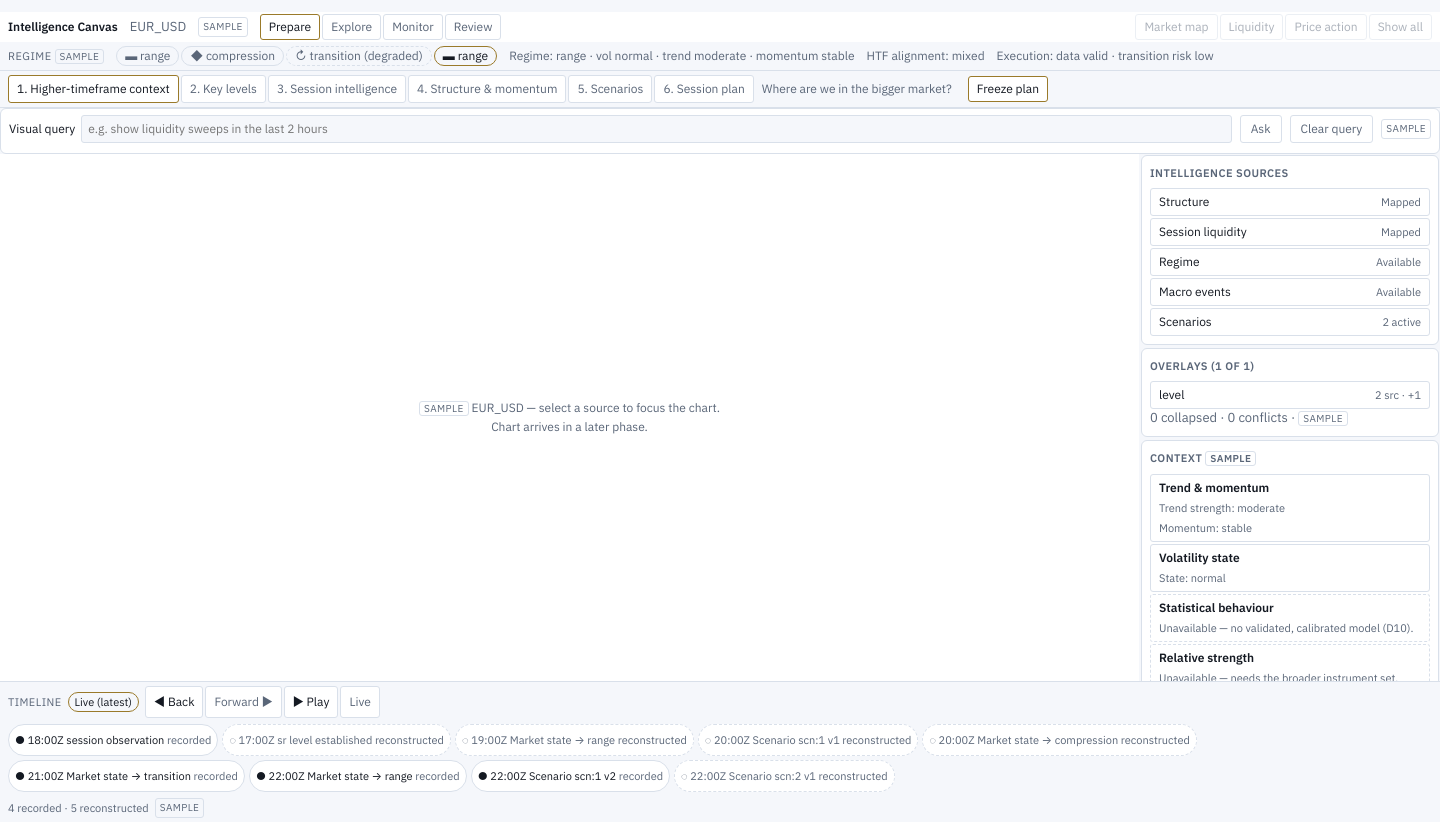
it: F11 Scenario Studio UI › mounted in the Canvas when the Scenarios source is selected
This screenshot has width=1440, height=822.
Expected: the field labelled "Scenario Studio" is not shown
Click the button "Scenarios 2 active".
click(1185, 322)  # box [1150, 308, 1430, 336]
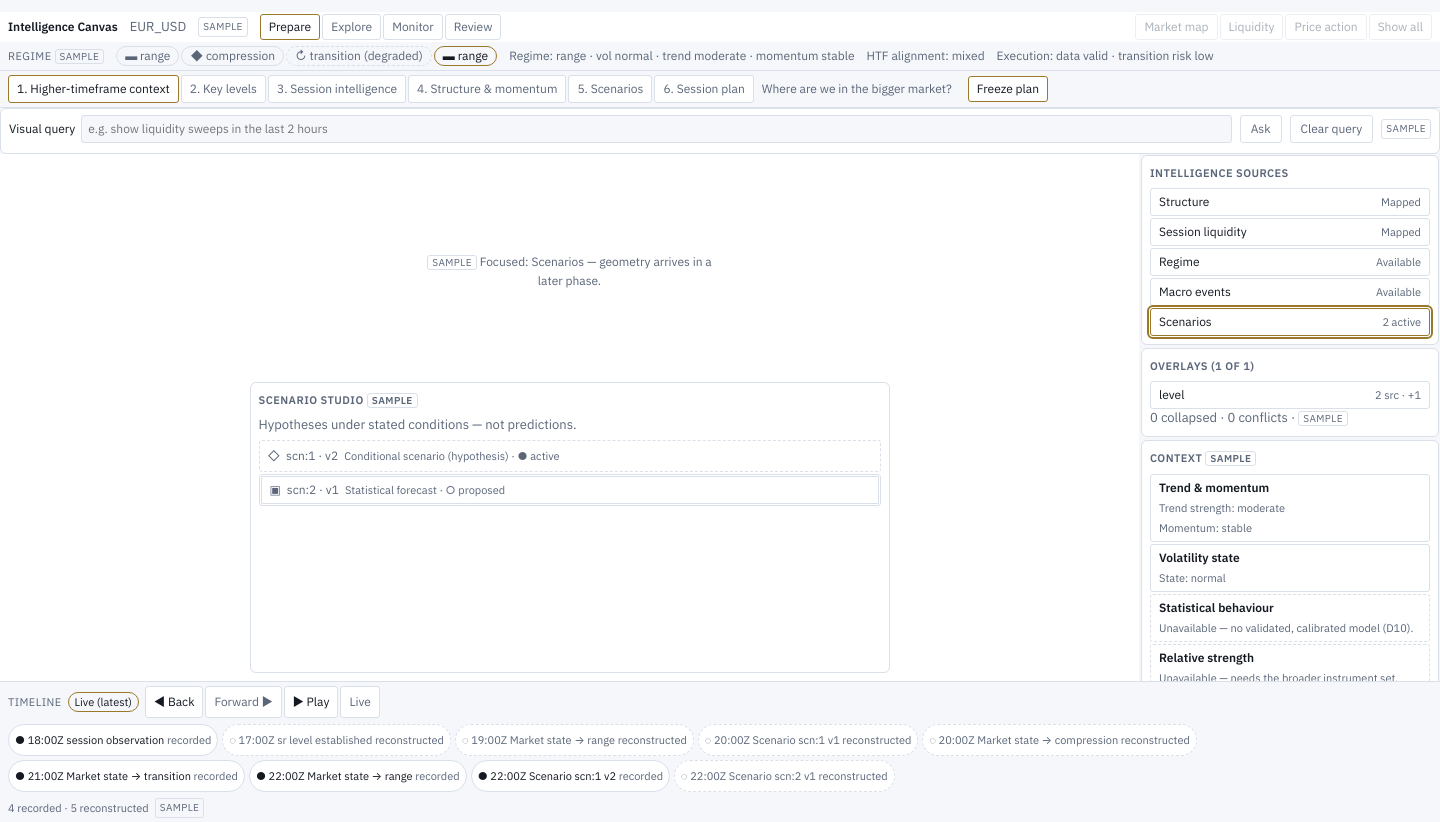
Now the element labelled "Scenario Studio" is shown, box [250, 382, 890, 673]
